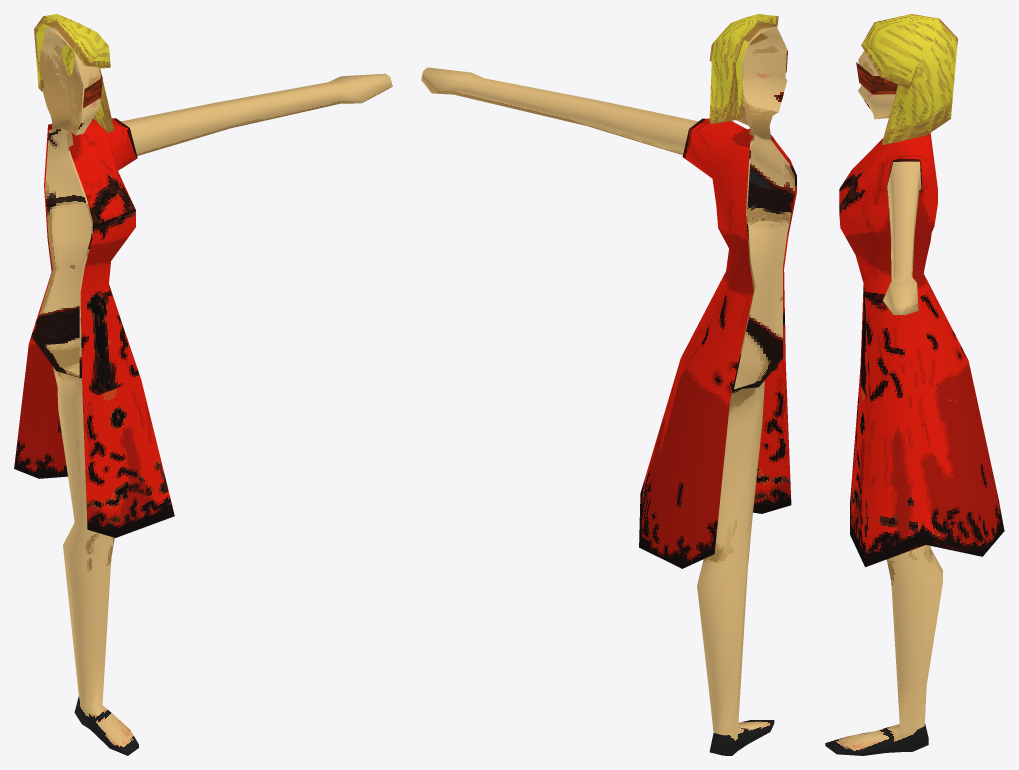
The model's file is carmilla.glb.
The picture shows the model from 3 angles, left to right: view 1: azimuth 30°, elevation 25°; view 2: azimuth 150°, elevation 25°; view 3: azimuth 270°, elevation 25°; orthographic projection. The views are drawn at different scales.
Visible parts, largest first — view 1: Cube, Cube.005, Cube.003; view 2: Cube, Cube.005, Cube.003; view 3: Cube.005, Cube, Cube.003, Cube.002.
Part boxes in pixels (x1,y1,x2,y2): Cube: (32,27,392,755); Cube.005: (14,118,174,537); Cube.003: (34,14,114,132); Cube: (421,26,794,755); Cube.005: (639,118,796,568); Cube.003: (709,14,778,124); Cube.005: (839,133,1004,567); Cube: (825,51,942,755); Cube.003: (861,14,957,145); Cube.002: (856,62,897,94).
Bounding box in the file's own units: 1.74 × 3.58 × 0.8098.
Materials: 1 (1 with a texture image).
